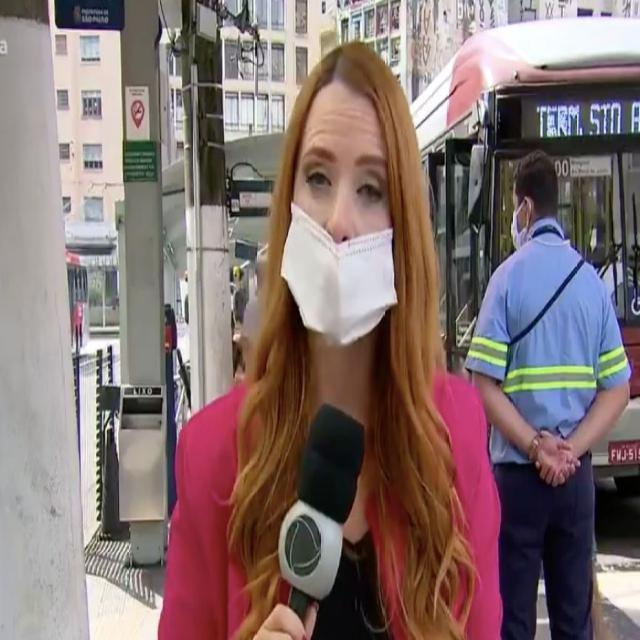hairnet: (282, 45, 404, 352)
